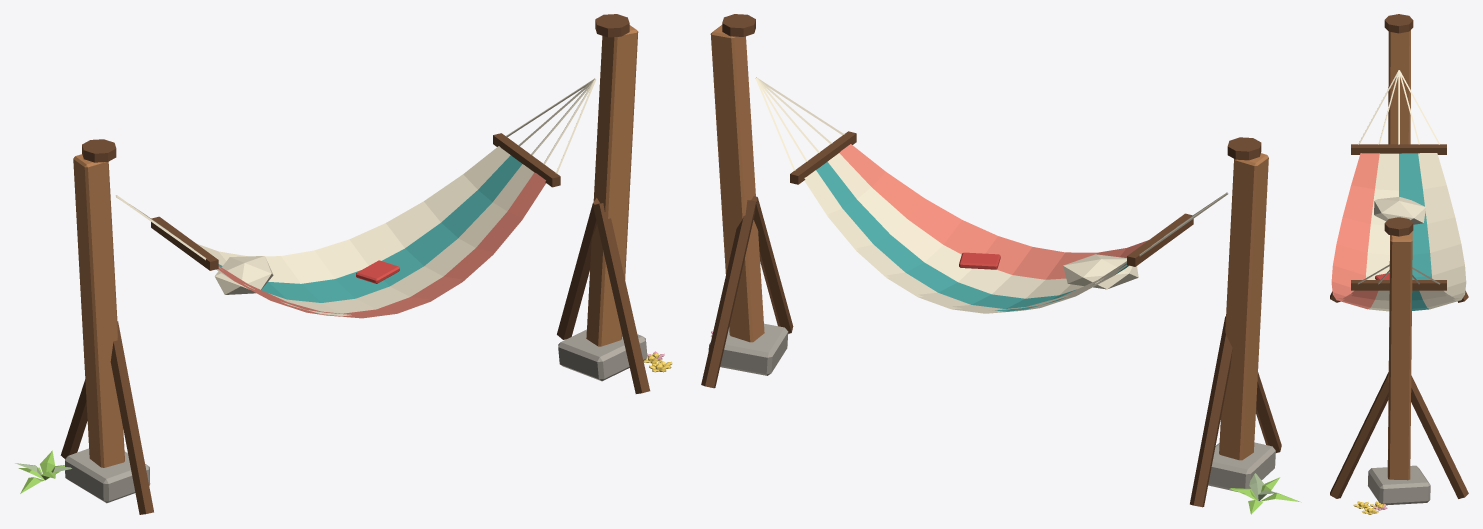
File: hammock.glb
3 views of the same model, side by side, from view 1: azimuth 30°, elevation 25°; view 2: azimuth 150°, elevation 25°; view 3: azimuth 270°, elevation 25° (orthographic). The views are drawn at different scales.
Parts seen in each view (by area): view 1: Hammock; view 2: Hammock; view 3: Hammock.
Boxes of the visible parts, bbox=[...] form: Hammock: bbox=[15, 14, 672, 514]; Hammock: bbox=[701, 14, 1301, 514]; Hammock: bbox=[1330, 14, 1468, 514].
Size of the model in its own units: 3.65 by 1.92 by 0.8662.
1 material, 1 textured.
